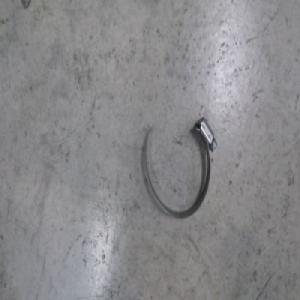AdjustableClamp: (140, 115, 216, 223)
